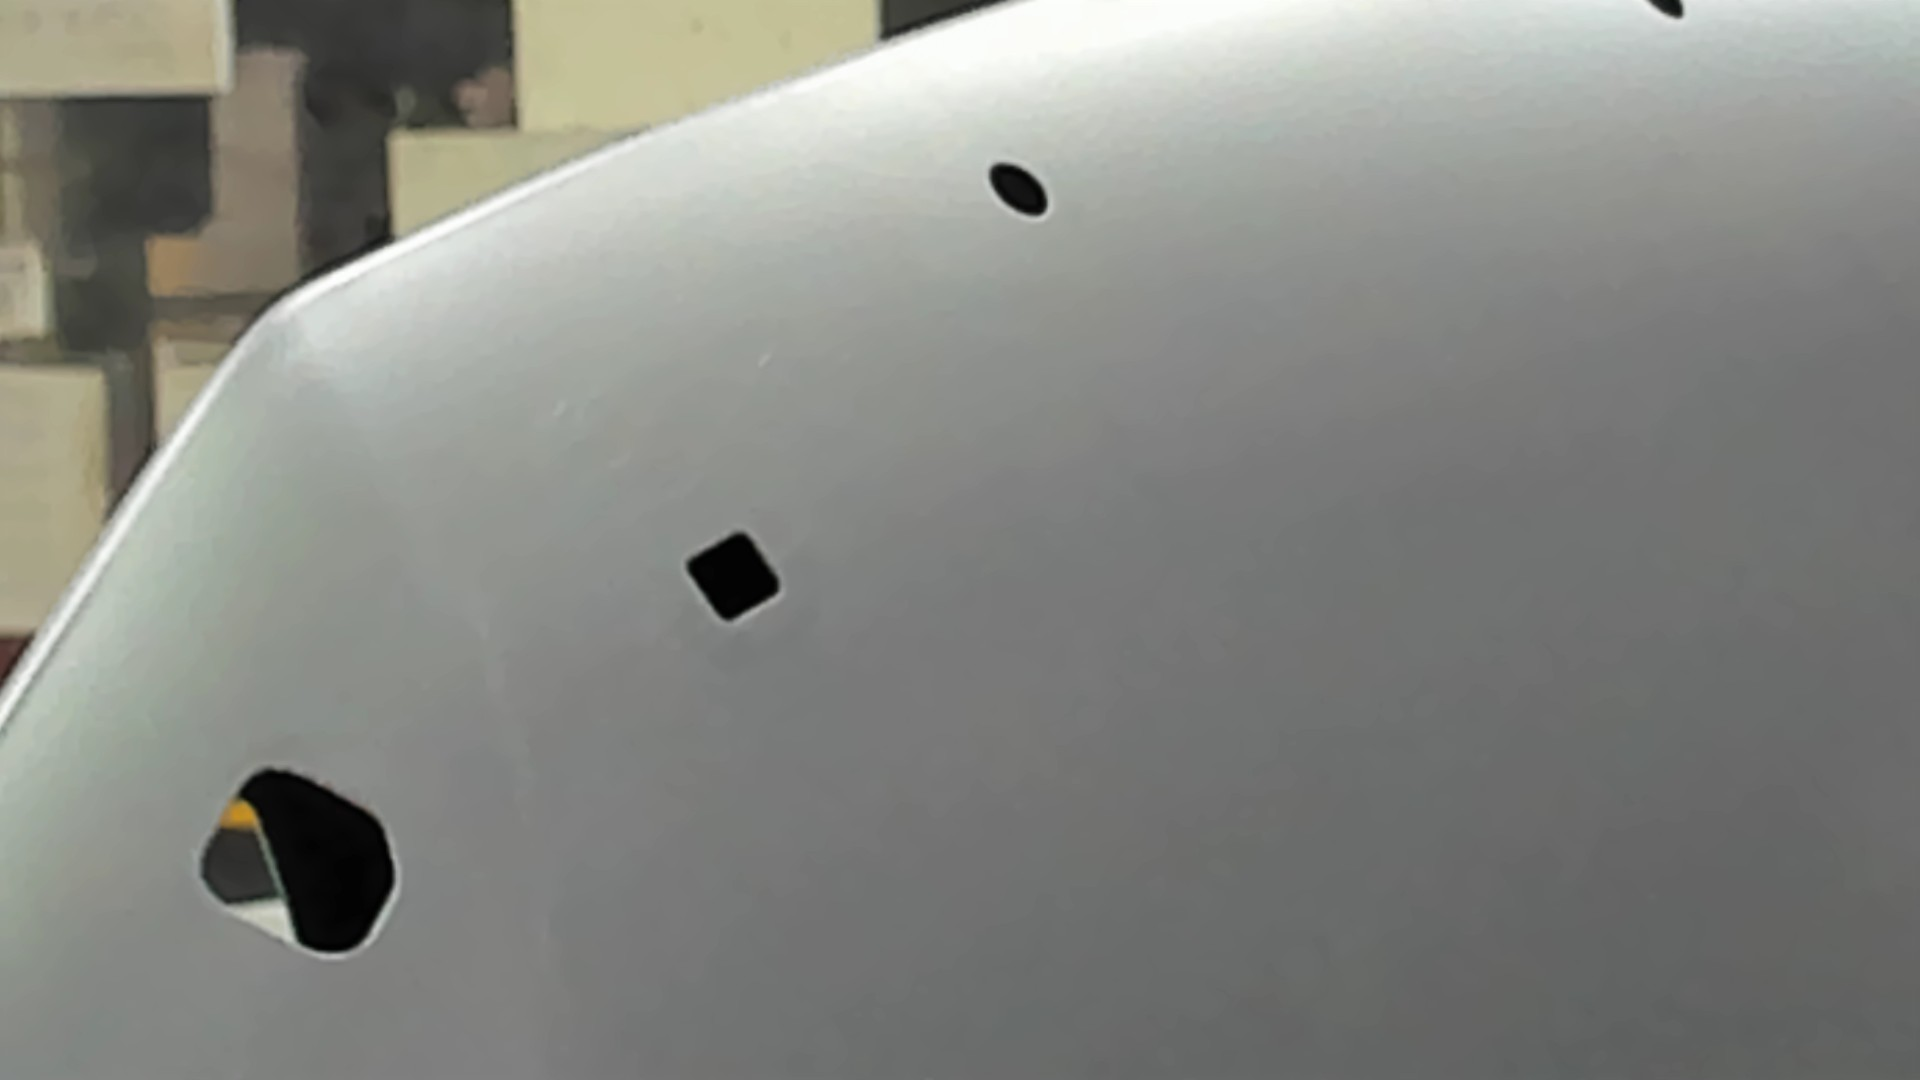chico: (984, 156, 1055, 224), (1643, 1, 1692, 24)
grande: (189, 756, 406, 973)
mediano: (676, 524, 790, 633)
